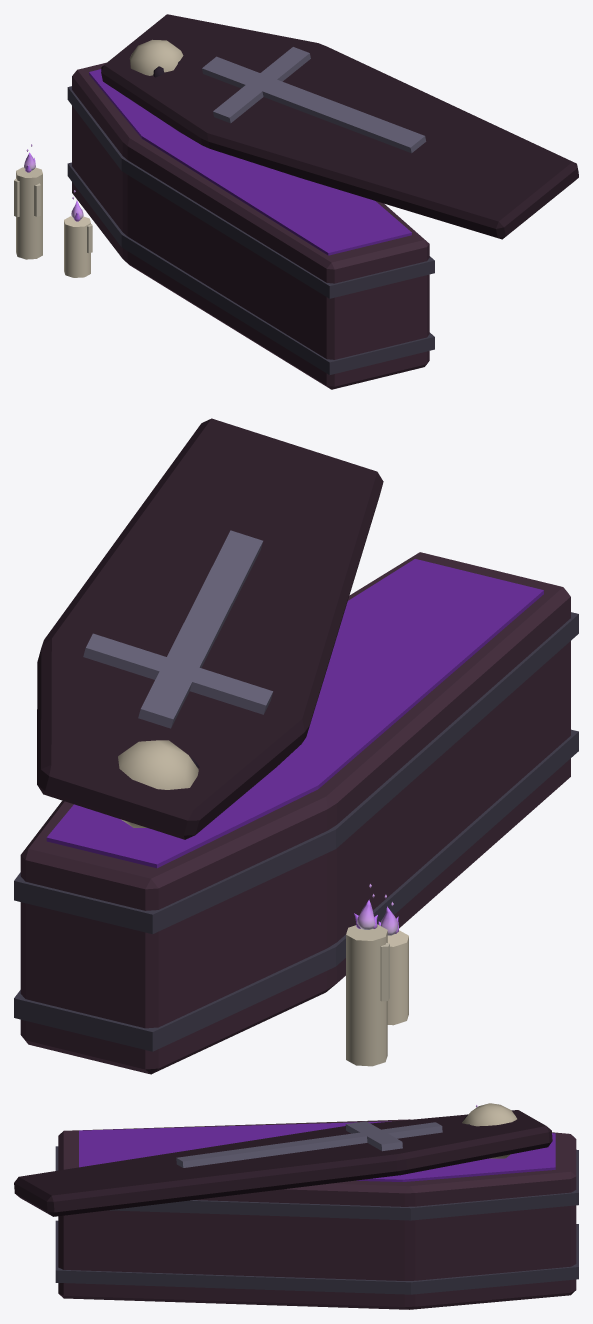
Rendered from decor_1.fbx.
The picture shows the model from 3 angles, top to bottom: view 1: azimuth 30°, elevation 25°; view 2: azimuth 150°, elevation 25°; view 3: azimuth 270°, elevation 25°; orthographic projection. The views are drawn at different scales.
Visible parts, largest first — view 1: decor_1; view 2: decor_1; view 3: decor_1.
Part boxes in pixels (bbox=[...]): decor_1: bbox=[14, 14, 578, 389]; decor_1: bbox=[14, 418, 578, 1074]; decor_1: bbox=[14, 1103, 578, 1309].
Bounding box in the file's own units: 1.42 × 0.7163 × 2.07.
